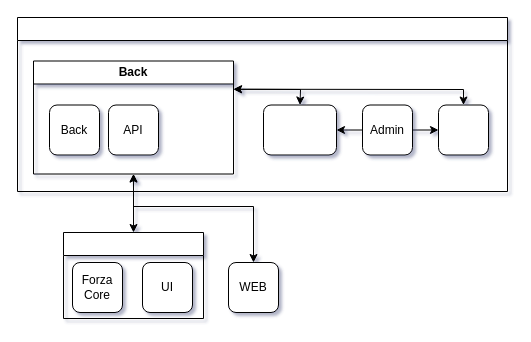
This 531x342 diagram has some shape labels left out. Here are the shapes that lost their labels. From the top down, the box of each, then its label:
(16, 16, 508, 192): Docker
(262, 104, 336, 155): Time Scale db
(438, 104, 488, 155): db
(62, 232, 204, 318): Desk top App
